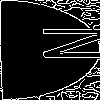N: (25, 25, 100, 61)
